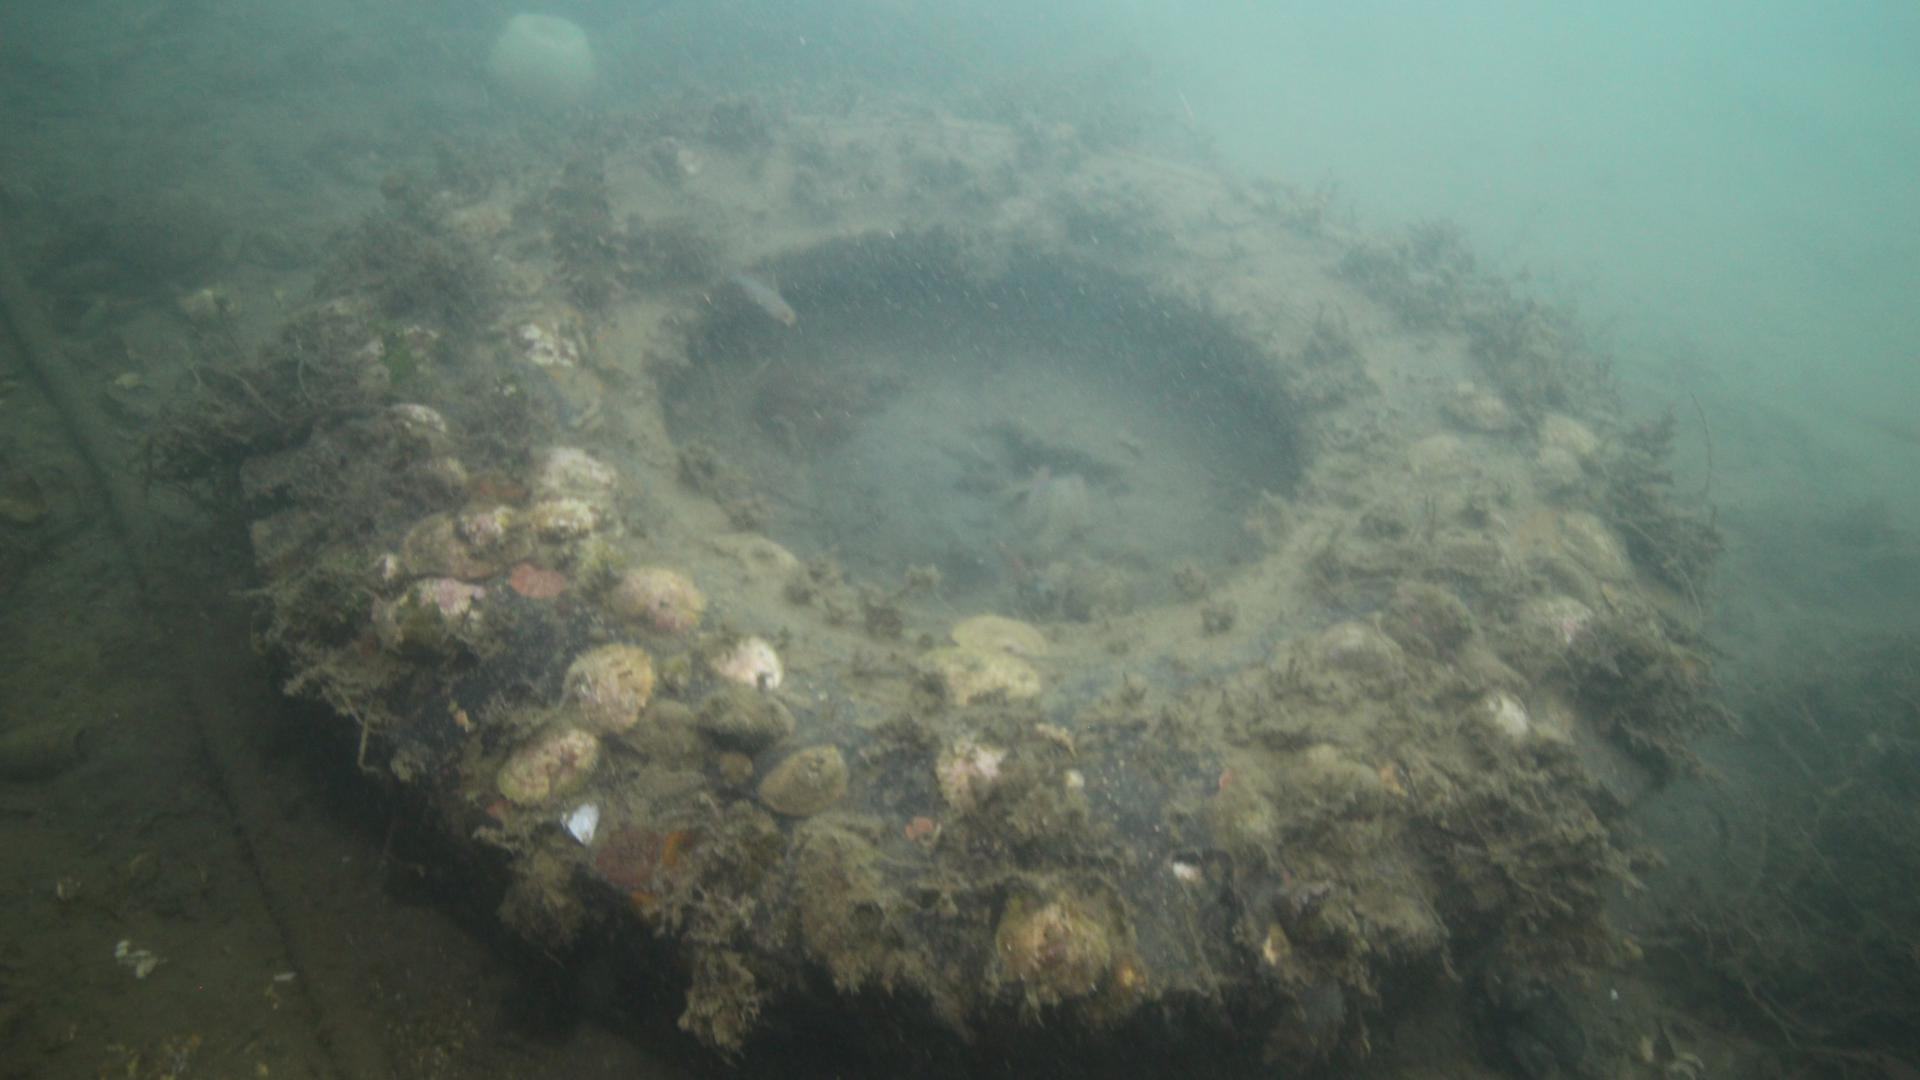tire: (235, 109, 1586, 1080)
